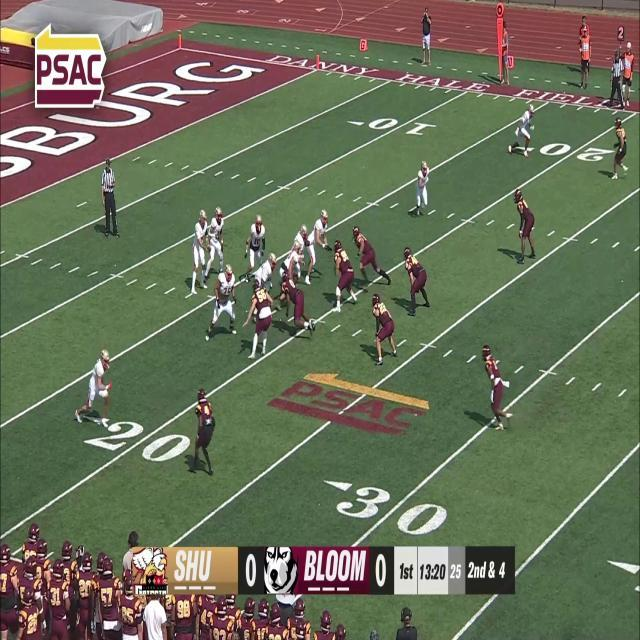football: (206, 242, 211, 252)
